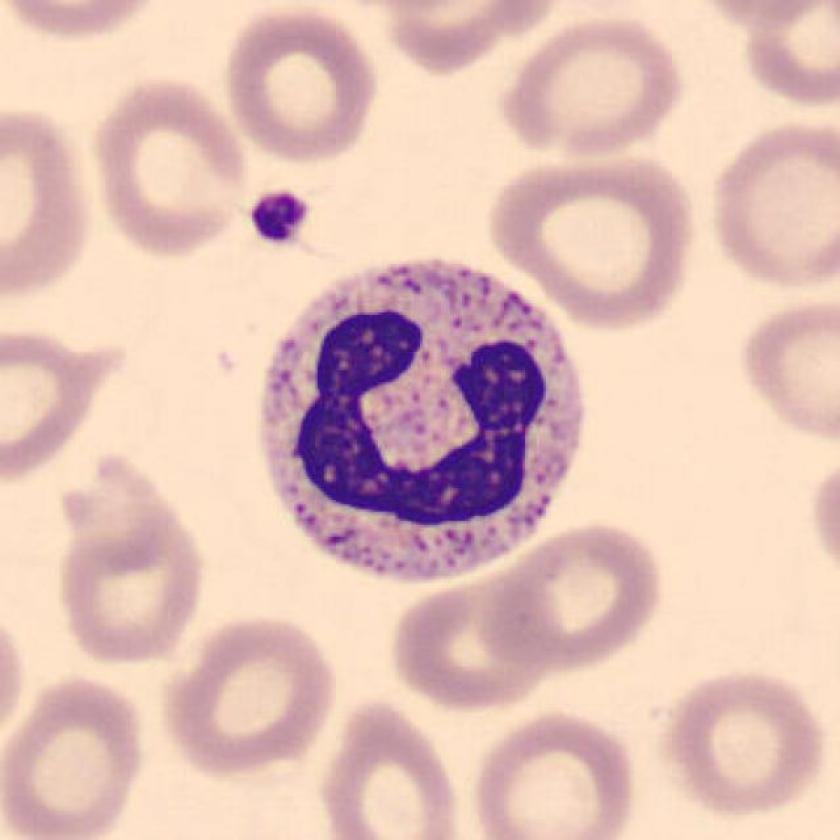neutrophil: (266, 265, 584, 585)
